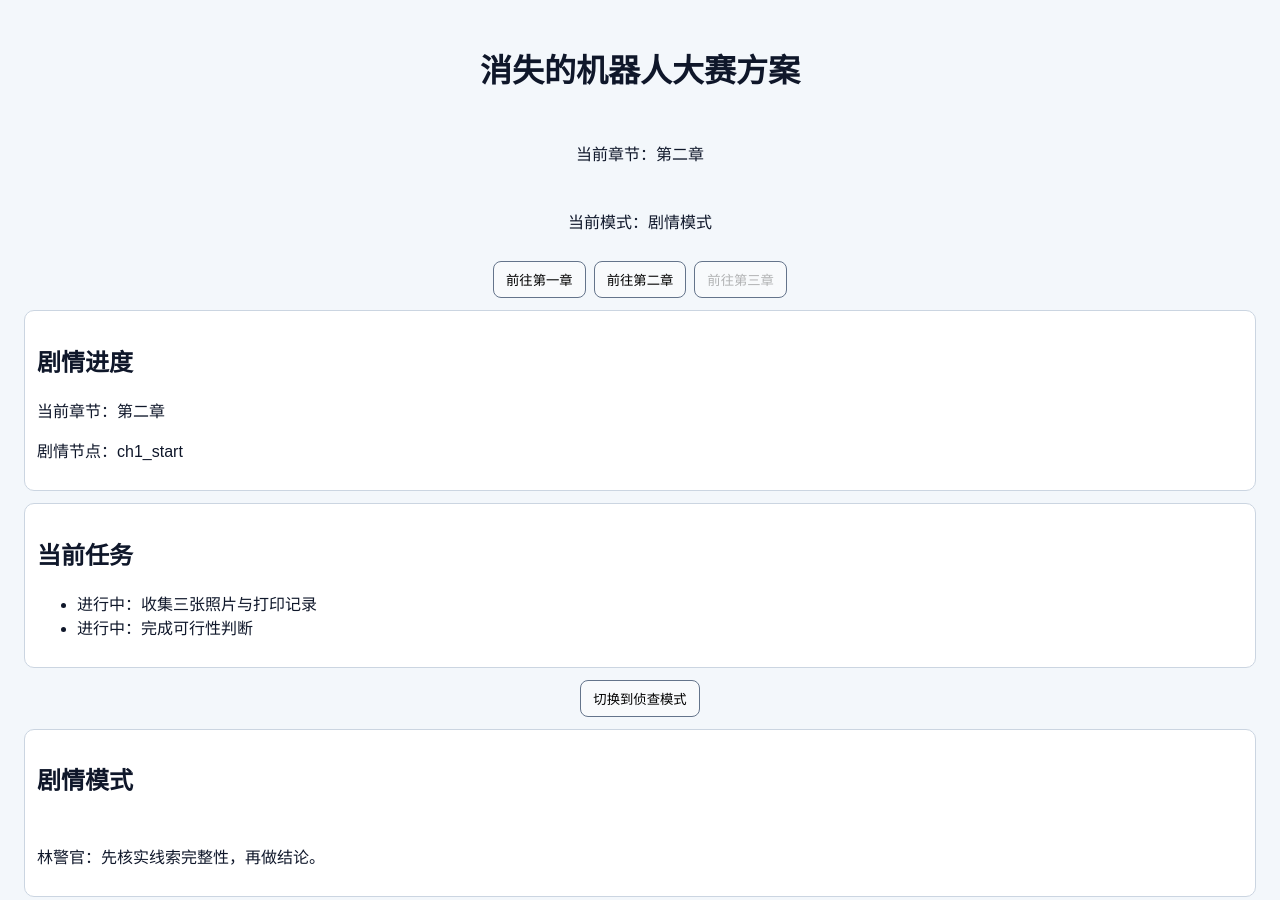
it: chapter 2 flow › unlocks timeline after collecting any two photos
The width and height of the screenshot is (1280, 900).
Click the button "切换到侦查模式": (640, 698) [580,680,700,716]
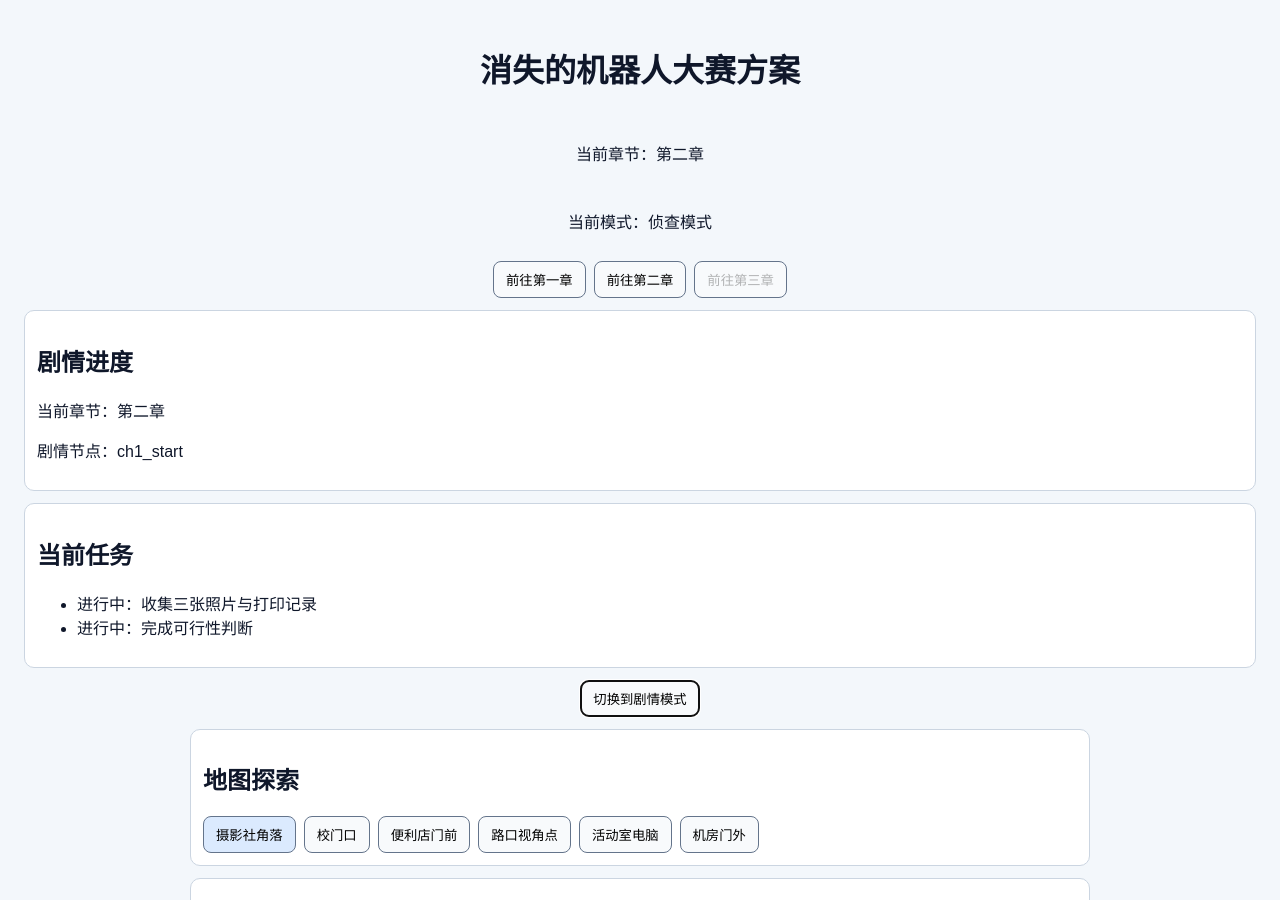
Click the button "摄影社角落": (249, 835) [203,816,296,853]
(page scrolled)
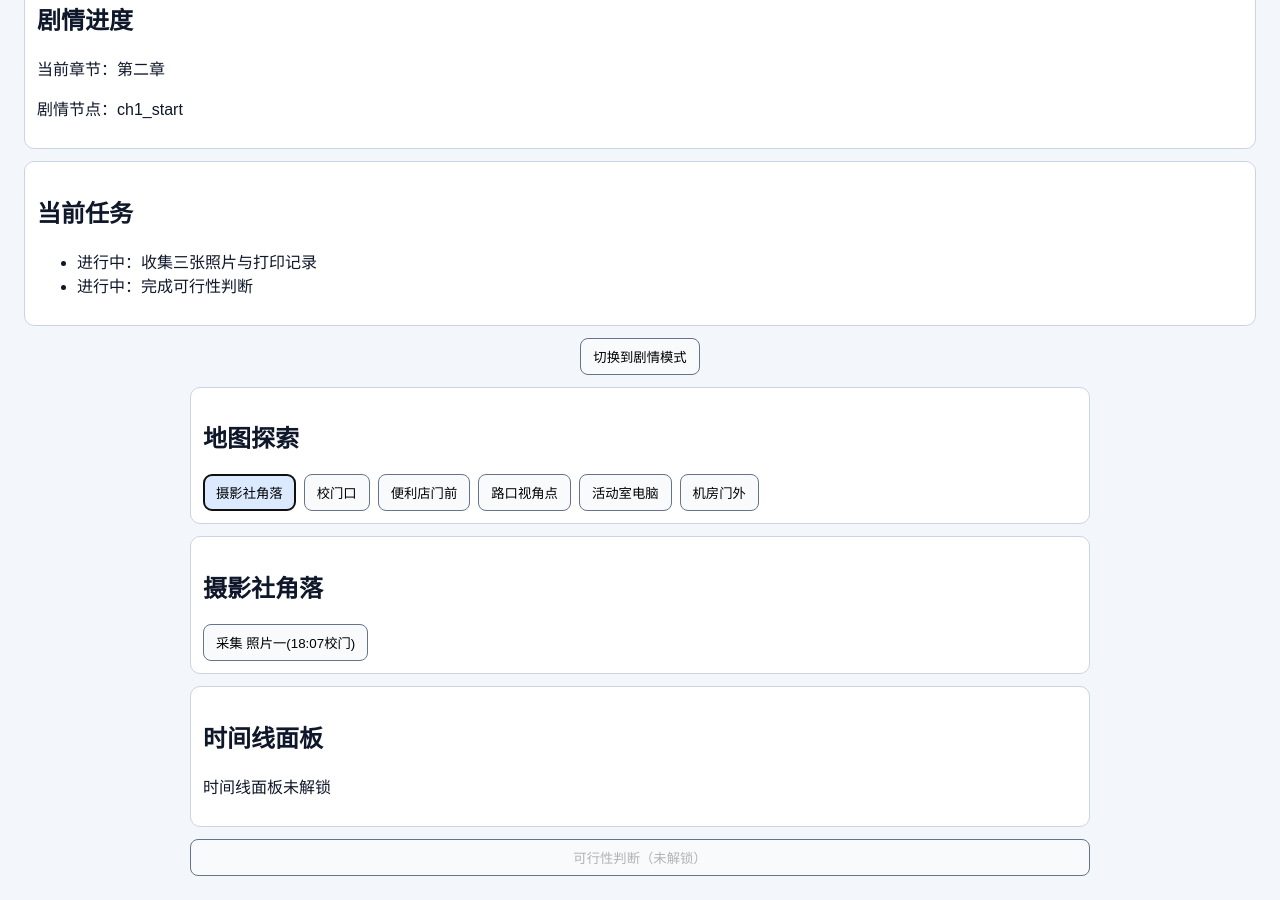
Click the button "采集 照片一(18:07校门)": (286, 643) [203,624,368,661]
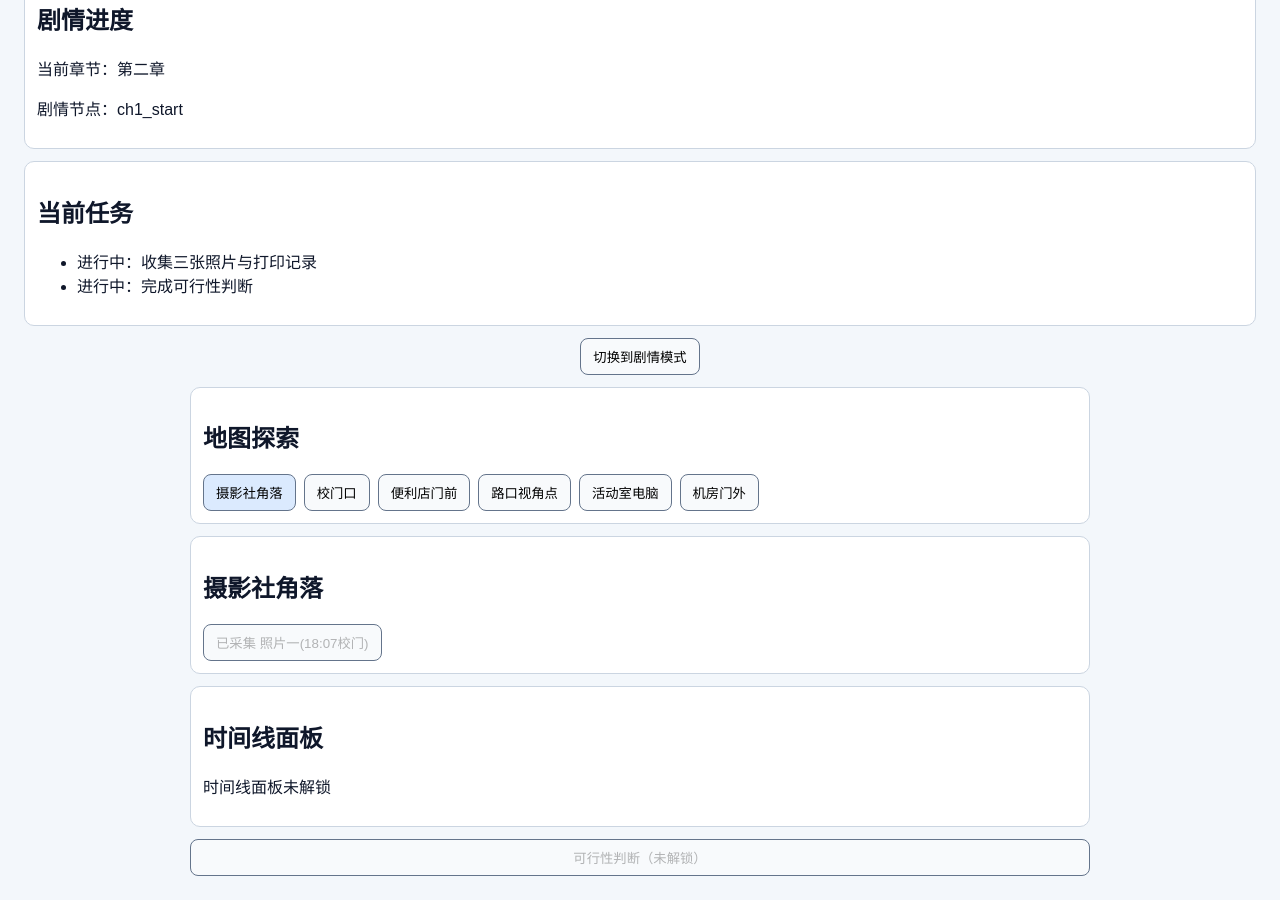
Click the button "便利店门前": (424, 493) [378,474,470,511]
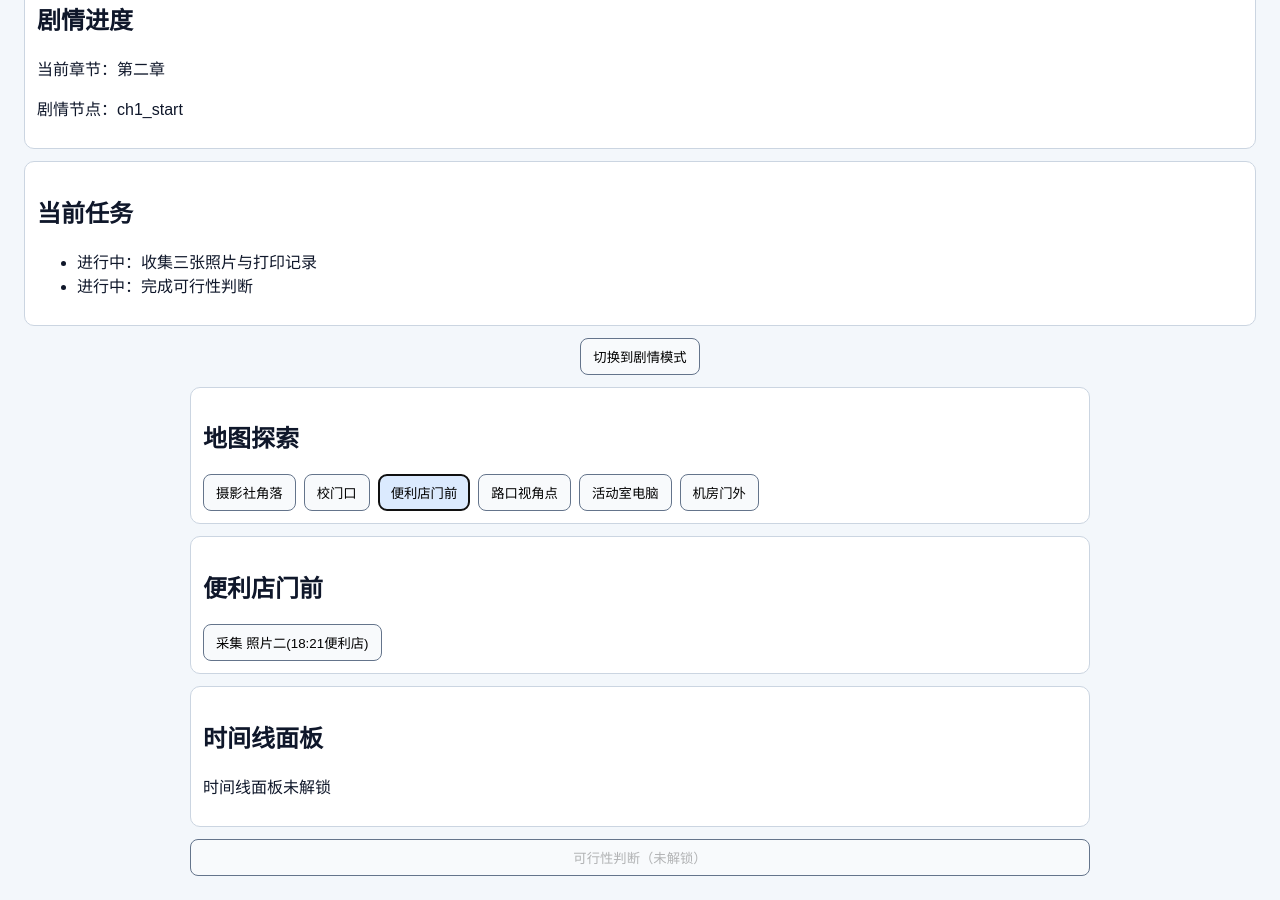
Click the button "采集 照片二(18:21便利店)": (292, 643) [203,624,382,661]
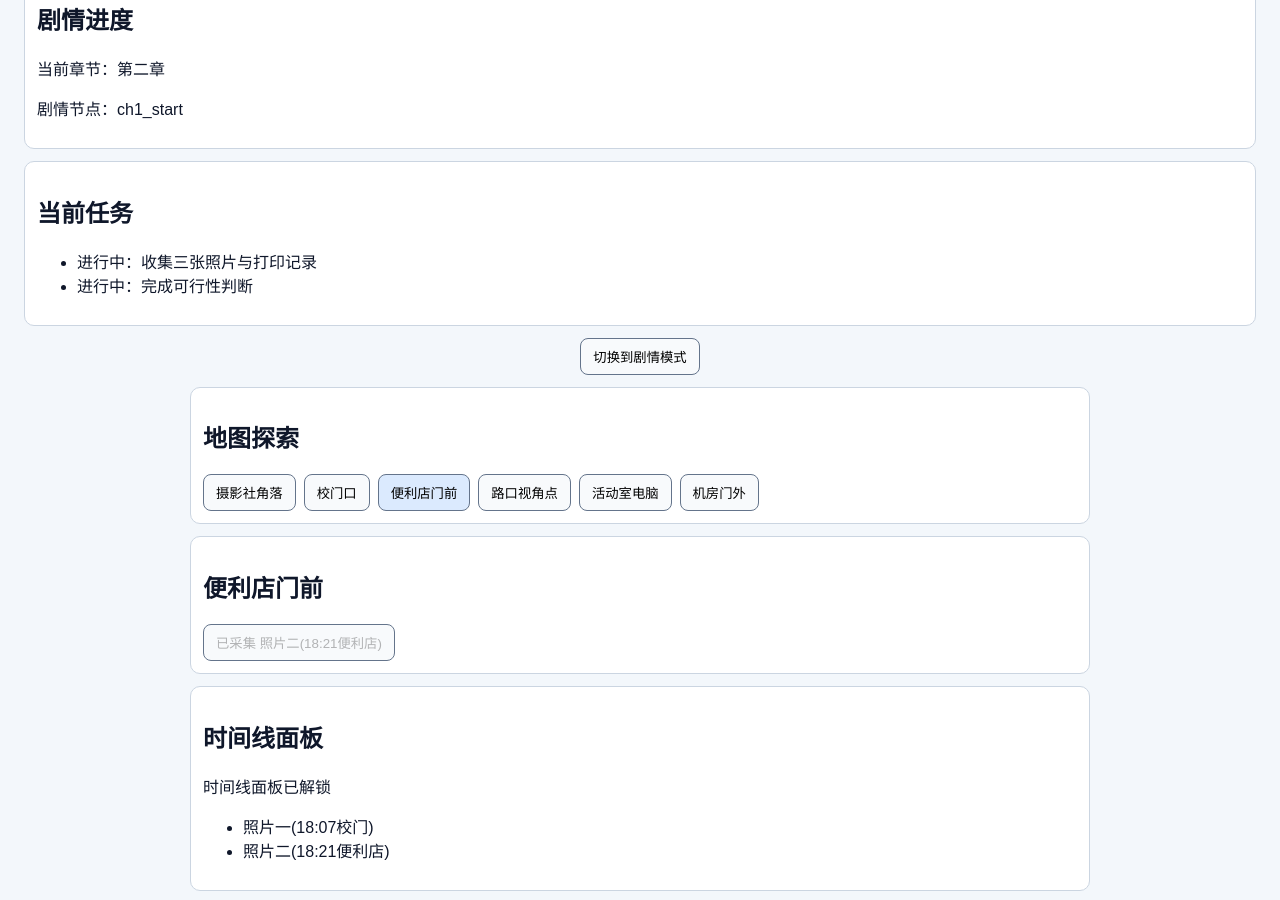
expect the text "时间线面板已解锁" is shown: met, box [203,779,331,796]
